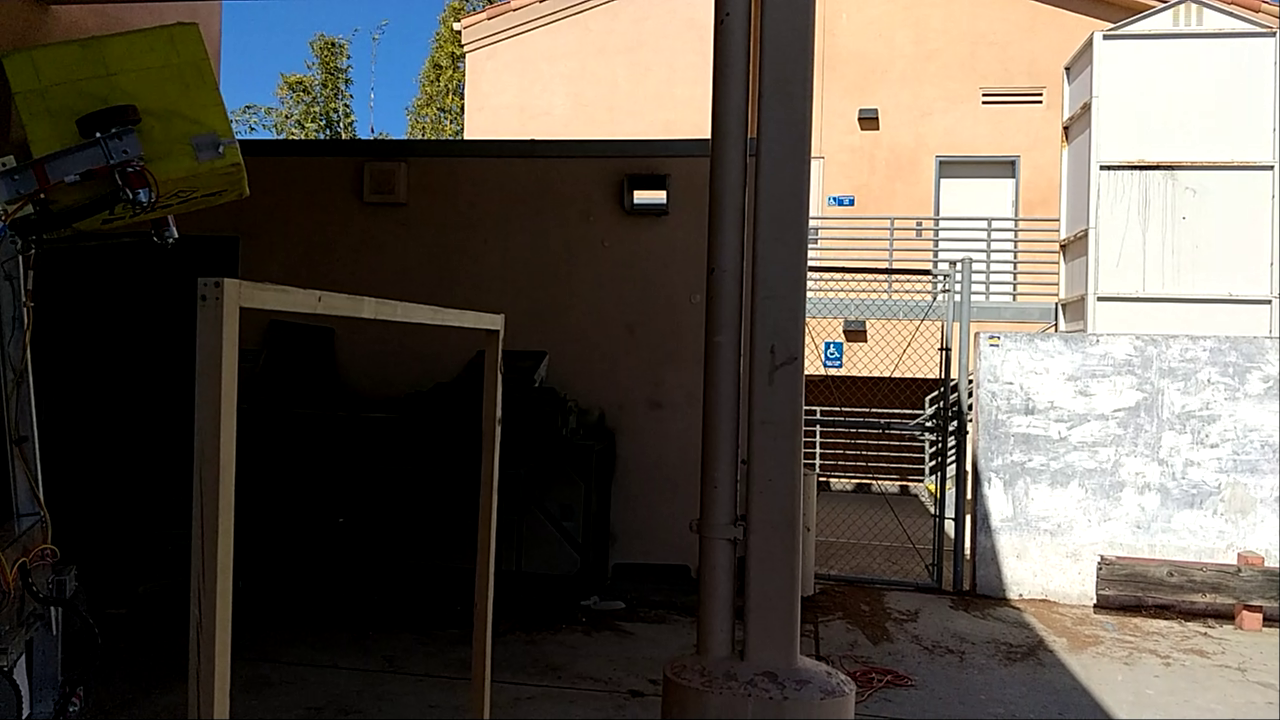cube: (1, 19, 252, 236)
